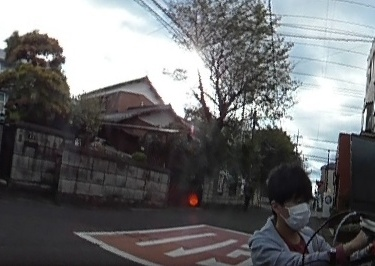person: (246, 161, 345, 264), (241, 179, 254, 211)
